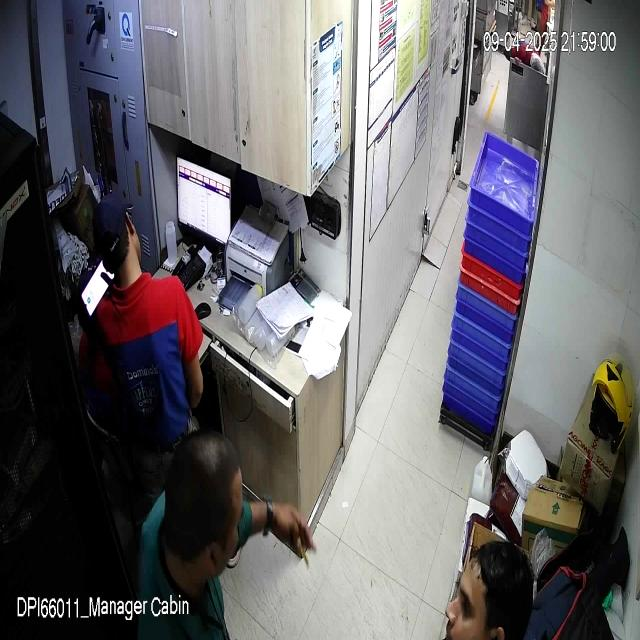helmet: (590, 352, 635, 453)
no_helmet: (163, 432, 244, 600), (445, 539, 533, 639), (92, 195, 142, 286)
